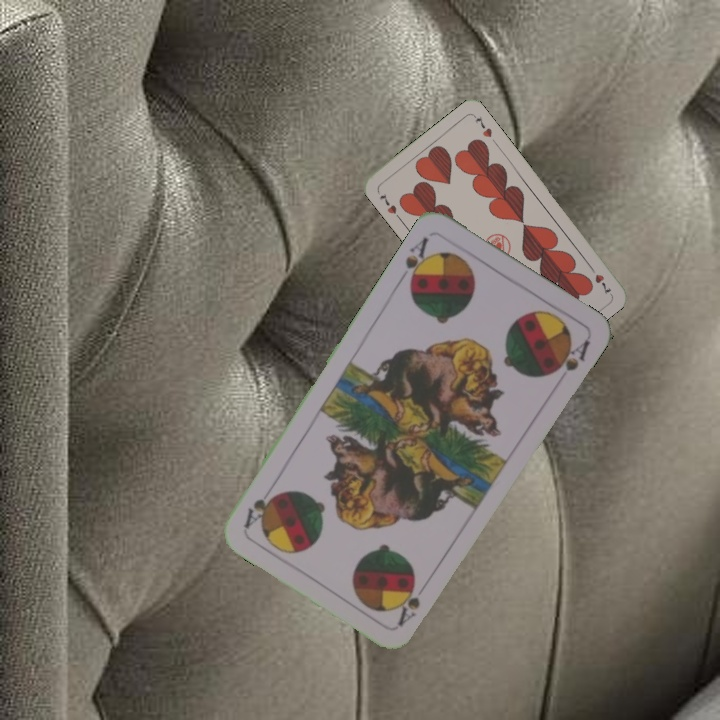H7: (585, 261, 614, 297), (376, 189, 399, 217)
SA: (401, 233, 435, 290), (393, 579, 423, 629)
